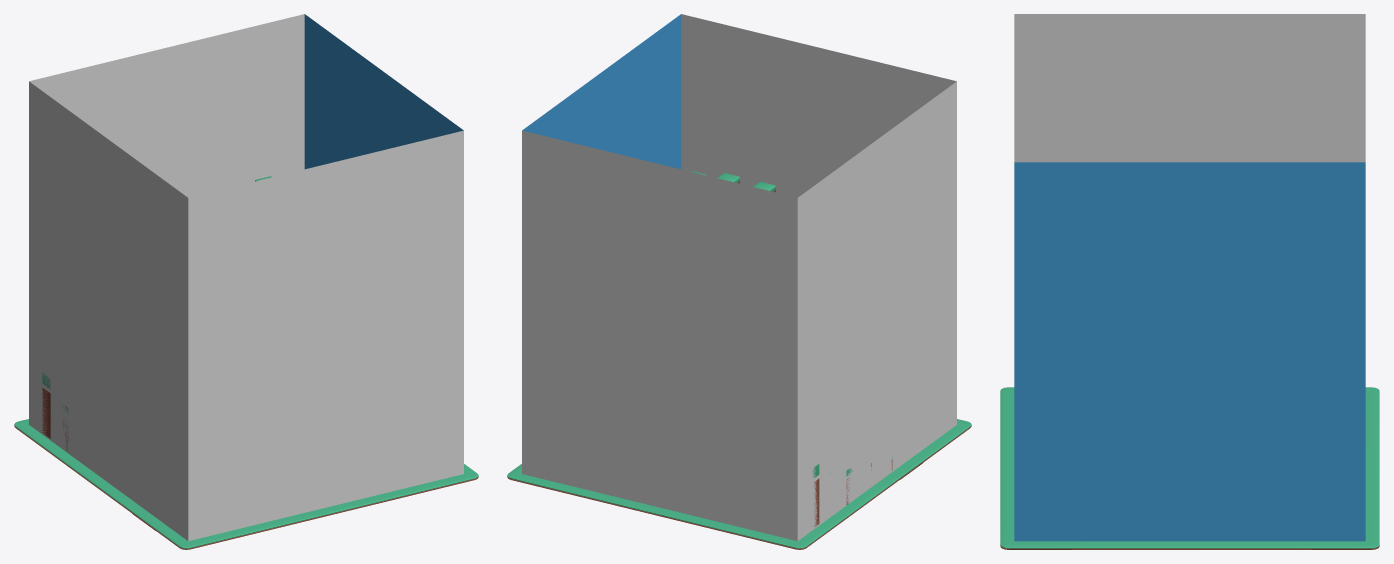
Rendered from map.fbx.
The picture shows the model from 3 angles, left to right: view 1: azimuth 30°, elevation 25°; view 2: azimuth 150°, elevation 25°; view 3: azimuth 270°, elevation 25°; orthographic projection. The views are drawn at different scales.
Visible parts, largest first — view 1: Plane.003, Plane.002, Plane.001, Plane.004, tileLarge_forest; view 2: Plane.001, Plane.002, Plane.003, Plane.004, tileLarge_forest; view 3: Plane.004, Plane.002, tileLarge_forest.
Part boxes in pixels (x1,y1,x2,y2): Plane.003: (188, 130, 463, 540); Plane.002: (29, 81, 188, 540); Plane.001: (29, 14, 304, 197); Plane.004: (304, 14, 463, 169); tileLarge_forest: (14, 419, 478, 549); Plane.001: (522, 130, 797, 540); Plane.002: (797, 81, 956, 540); Plane.003: (681, 14, 956, 197); Plane.004: (522, 14, 681, 169); tileLarge_forest: (507, 419, 971, 549); Plane.004: (1014, 162, 1365, 541); Plane.002: (1014, 14, 1365, 162); tileLarge_forest: (1000, 387, 1379, 549).
Size of the model in its own units: 10800 by 12400 by 10800.
